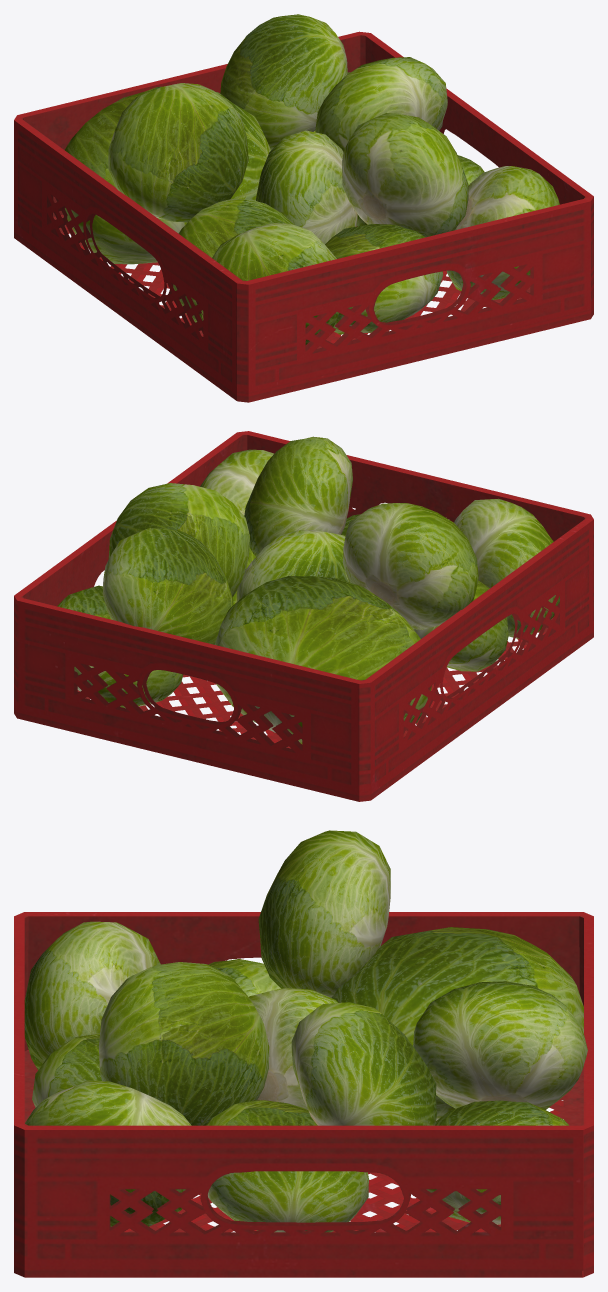
The model's file is Prop_Lettuce_Crate.fbx.
3 views of the same model, one above another, from view 1: azimuth 30°, elevation 25°; view 2: azimuth 150°, elevation 25°; view 3: azimuth 270°, elevation 25° (orthographic). The views are drawn at different scales.
Visible parts, largest first — view 1: Lettuce, Box_Red; view 2: Box_Red, Lettuce; view 3: Lettuce, Box_Red.
Boxes of the visible parts, x1=… form: Lettuce: x1=65, y1=14, x2=559, y2=344; Box_Red: x1=14, y1=31, x2=593, y2=402; Box_Red: x1=14, y1=431, x2=593, y2=801; Lettuce: x1=57, y1=436, x2=559, y2=743; Lettuce: x1=24, y1=830, x2=587, y2=1232; Box_Red: x1=14, y1=912, x2=593, y2=1277.
Size of the model in its own units: 29.03 by 15.9 by 32.42.
